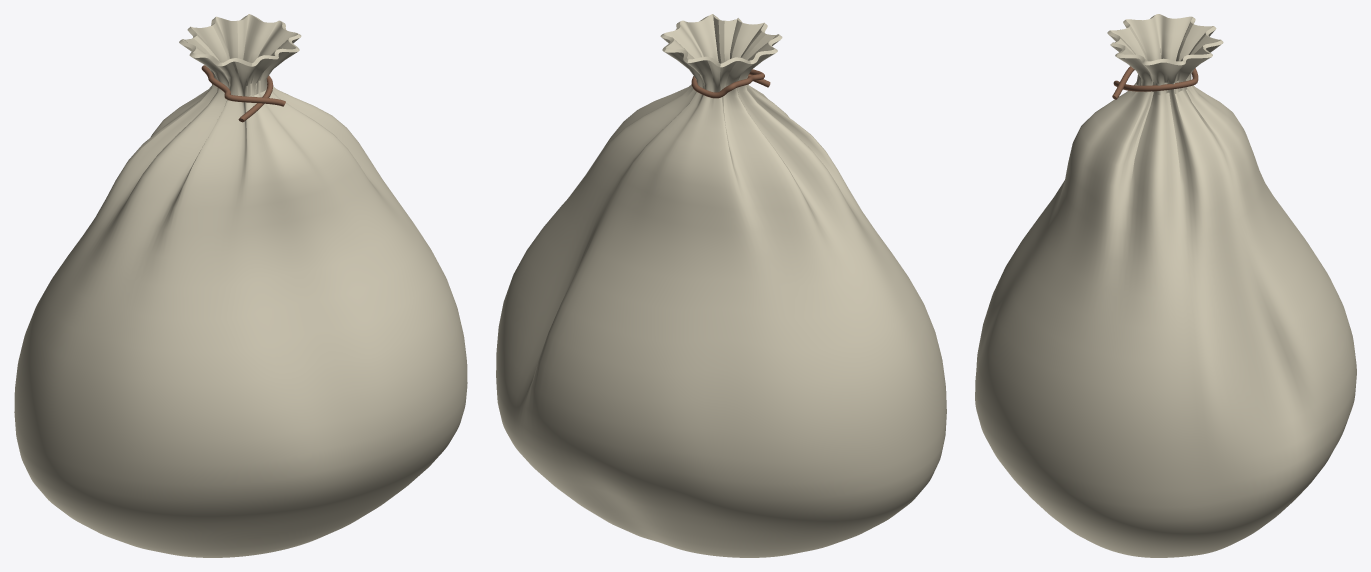
Rendered from costal2.fbx.
The picture shows the model from 3 angles, left to right: view 1: azimuth 30°, elevation 25°; view 2: azimuth 150°, elevation 25°; view 3: azimuth 270°, elevation 25°; orthographic projection.
Parts seen in each view (by area): view 1: Circle, BezierCurve; view 2: Circle, BezierCurve; view 3: Circle, BezierCurve.
Part boxes in pixels (<box>): Circle: <box>14,14,467,557</box>; BezierCurve: <box>201,65,285,122</box>; Circle: <box>496,14,946,557</box>; BezierCurve: <box>691,69,770,98</box>; Circle: <box>975,14,1356,557</box>; BezierCurve: <box>1112,66,1198,99</box>.
Size of the model in its own units: 503 by 592 by 413.
2 materials, 1 textured.
